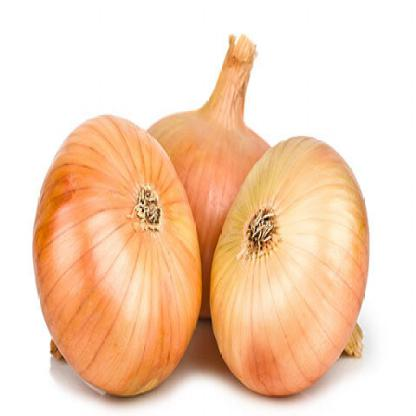onion: (31, 105, 202, 398), (209, 137, 369, 397), (149, 32, 274, 316)
